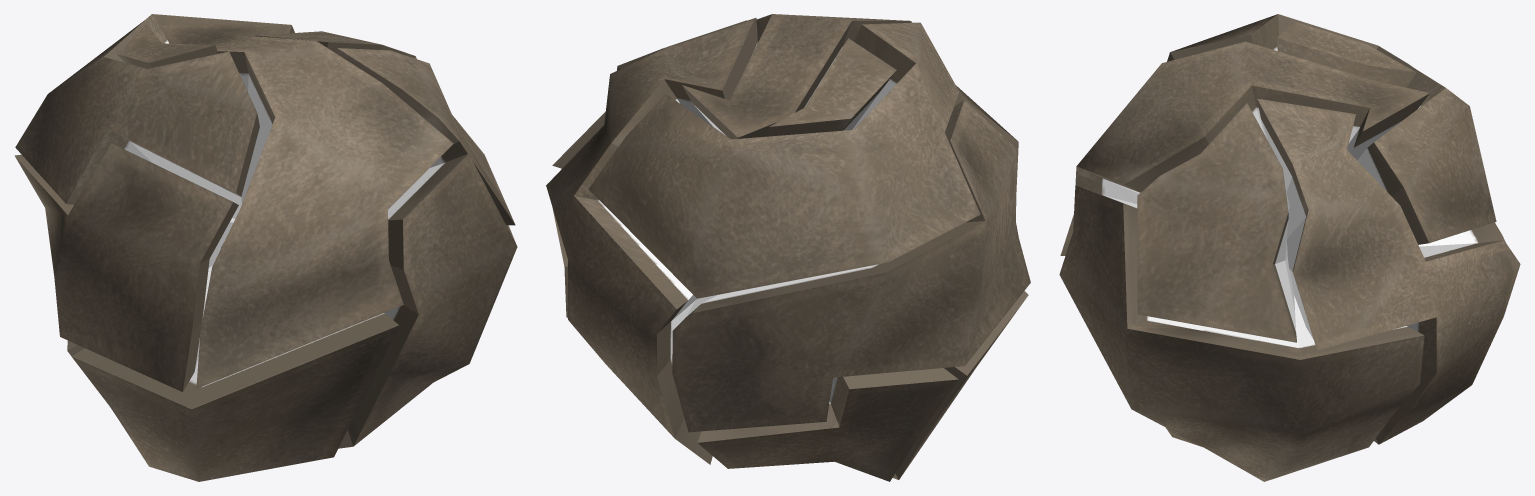
File: BreakableRock.fbx
The picture shows the model from 3 angles, left to right: view 1: azimuth 30°, elevation 25°; view 2: azimuth 150°, elevation 25°; view 3: azimuth 270°, elevation 25°; orthographic projection. The views are drawn at different scales.
Visible parts, largest first — view 1: Rock3, Rock4, Rock6, Rock2, Rock5, Rock9, Rock8, Rock1; view 2: Rock2, Rock4, Rock1, Rock7, Rock3, Rock8, Rock6, Rock9; view 3: Rock5, Rock1, Rock9, Rock3, Rock2, Rock8, Rock4.
Part boxes in pixels (bbox=[...]): Rock3: bbox=[162, 24, 453, 388]; Rock4: bbox=[14, 143, 238, 391]; Rock6: bbox=[71, 299, 399, 481]; Rock2: bbox=[15, 14, 294, 218]; Rock5: bbox=[338, 153, 517, 448]; Rock9: bbox=[335, 48, 515, 225]; Rock8: bbox=[117, 24, 218, 68]; Rock1: bbox=[255, 31, 416, 58]; Rock2: bbox=[588, 22, 980, 298]; Rock4: bbox=[672, 100, 1030, 432]; Rock1: bbox=[546, 19, 756, 464]; Rock7: bbox=[697, 368, 958, 481]; Rock3: bbox=[682, 14, 1018, 236]; Rock8: bbox=[768, 38, 896, 136]; Rock6: bbox=[892, 291, 1028, 479]; Rock9: bbox=[552, 18, 757, 168]; Rock5: bbox=[1059, 185, 1424, 481]; Rock1: bbox=[1257, 98, 1520, 444]; Rock9: bbox=[1137, 103, 1296, 342]; Rock3: bbox=[1060, 41, 1429, 255]; Rock2: bbox=[1167, 14, 1496, 244]; Rock8: bbox=[1277, 21, 1416, 87]; Rock4: bbox=[1418, 222, 1505, 246].
Bounding box in the file's own units: 232 × 216 × 229.
Materials: 2 (2 with a texture image).
